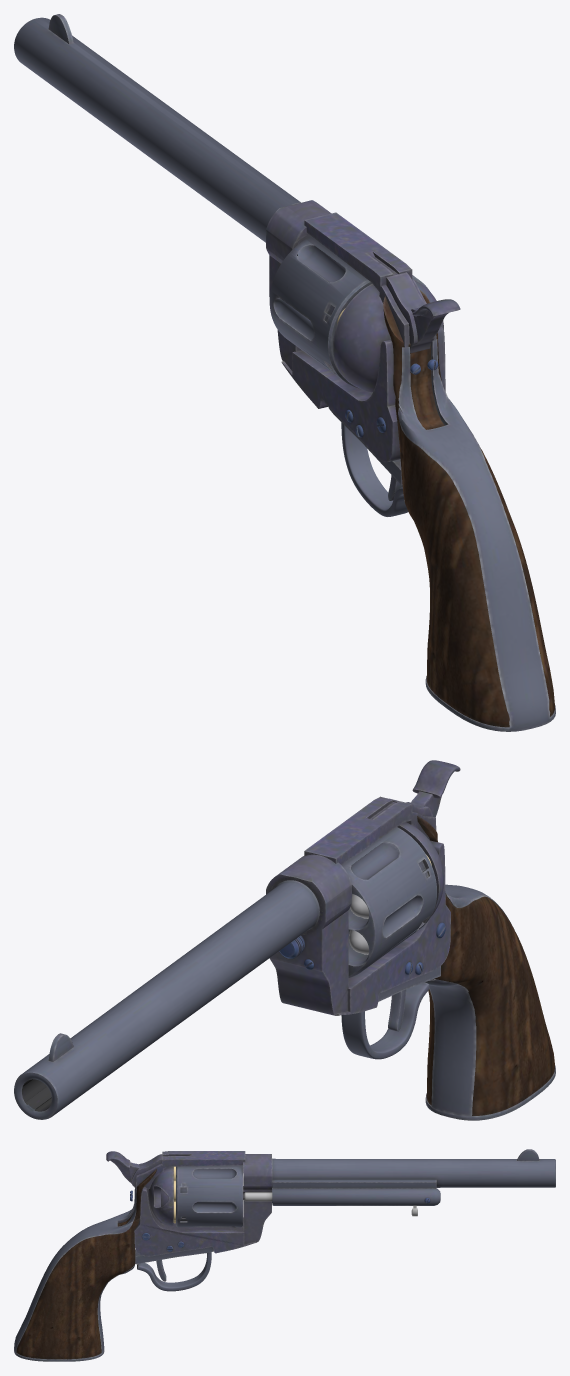
Rendered from saa_75.glb.
The picture shows the model from 3 angles, top to bottom: view 1: azimuth 30°, elevation 25°; view 2: azimuth 150°, elevation 25°; view 3: azimuth 270°, elevation 25°; orthographic projection. The views are drawn at different scales.
Parts seen in each view (by area): view 1: Grip, Frame, Barrel, Backstrap, Cylinder, TriggerGuard, Hammer; view 2: Barrel, Frame, Grip, Cylinder, TriggerGuard, Hammer, Backstrap, Trigger; view 3: Grip, Frame, Barrel, EjectorHousing, Cylinder, Backstrap, TriggerGuard, Hammer, Ejector.
Boxes of the visible parts, bbox=[...] form: Grip: bbox=[383, 289, 554, 727]; Frame: bbox=[266, 200, 445, 462]; Barrel: bbox=[14, 14, 310, 244]; Backstrap: bbox=[398, 339, 555, 731]; Cylinder: bbox=[269, 236, 429, 388]; TriggerGuard: bbox=[328, 407, 408, 516]; Hammer: bbox=[386, 272, 460, 353]; Barrel: bbox=[14, 876, 322, 1119]; Frame: bbox=[266, 796, 450, 1015]; Grip: bbox=[417, 816, 554, 1115]; Cylinder: bbox=[342, 827, 436, 977]; TriggerGuard: bbox=[341, 966, 476, 1116]; Hammer: bbox=[389, 760, 460, 817]; Backstrap: bbox=[425, 884, 555, 1120]; Trigger: bbox=[388, 989, 406, 1031]; Grip: bbox=[16, 1169, 156, 1359]; Frame: bbox=[134, 1151, 271, 1256]; Barrel: bbox=[271, 1149, 555, 1187]; EjectorHousing: bbox=[272, 1179, 440, 1205]; Cylinder: bbox=[176, 1165, 243, 1227]; Backstrap: bbox=[14, 1187, 136, 1361]; TriggerGuard: bbox=[97, 1247, 213, 1352]; Hammer: bbox=[106, 1151, 162, 1220]; Ejector: bbox=[244, 1192, 417, 1216].
Bounding box in the file's own units: 0.0419 × 0.1368 × 0.3303.
Materials: 4 (1 with a texture image).
